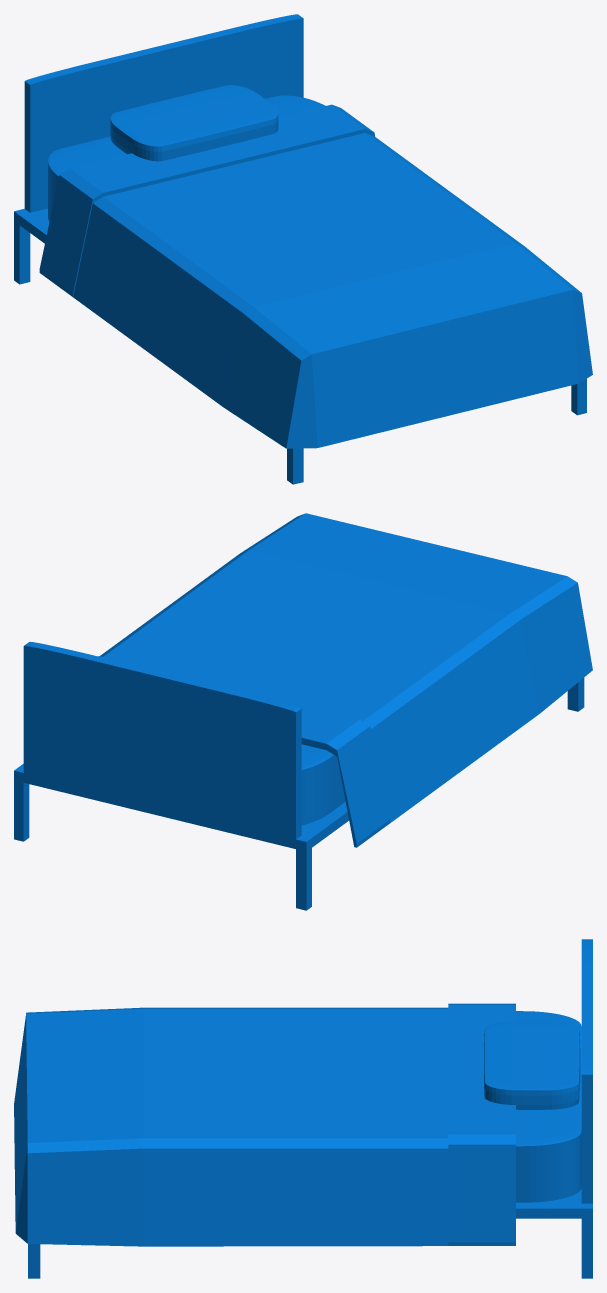
File: bedEnvironmental.fbx
The picture shows the model from 3 angles, top to bottom: view 1: azimuth 30°, elevation 25°; view 2: azimuth 150°, elevation 25°; view 3: azimuth 270°, elevation 25°; orthographic projection.
Parts seen in each view (by area): view 1: Cube; view 2: Cube; view 3: Cube.
Part boxes in pixels (<box>): Cube: <box>14,14,592,484</box>; Cube: <box>14,513,592,910</box>; Cube: <box>14,939,592,1278</box>.
Bounding box in the file's own units: 827 × 496 × 1294.
